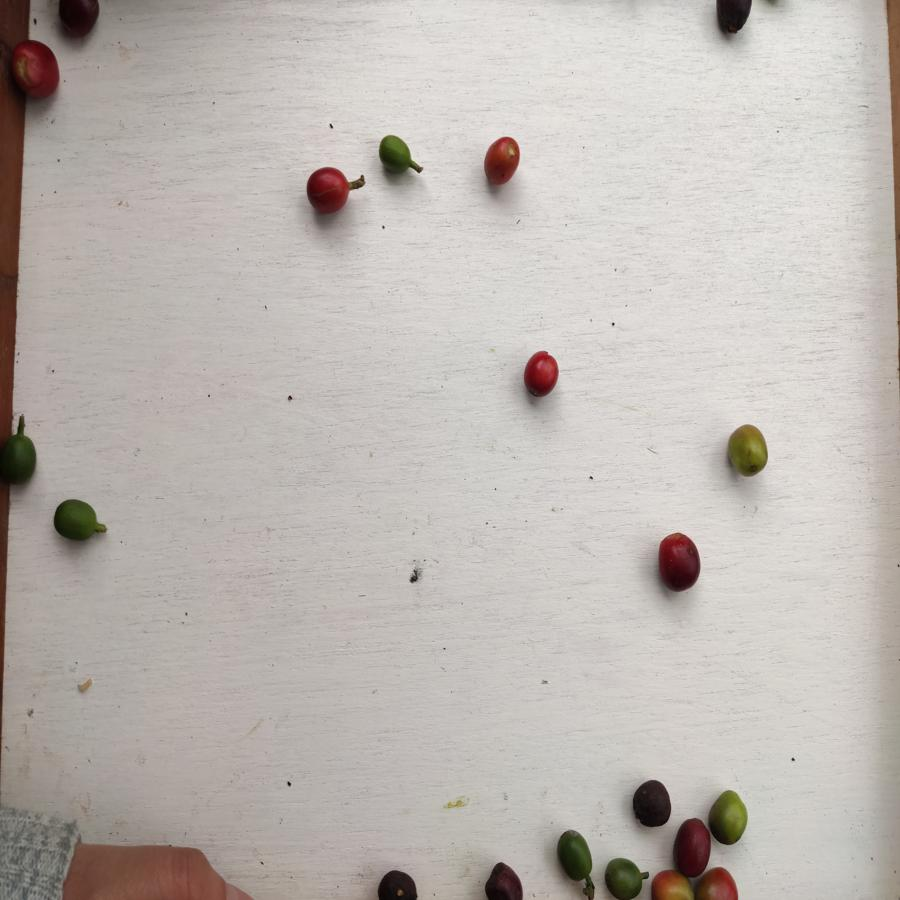Inmaduro: (554, 826, 596, 885), (709, 787, 747, 850), (599, 855, 651, 900), (53, 499, 102, 541), (3, 434, 40, 487), (376, 132, 415, 178)
Maduro: (15, 38, 63, 102), (482, 130, 527, 189), (306, 168, 351, 218), (522, 349, 564, 398), (698, 867, 741, 900)
Pinton: (722, 422, 778, 484), (651, 868, 692, 900)
Sobremaduro: (658, 531, 703, 595), (628, 778, 673, 833), (676, 818, 711, 878), (369, 868, 426, 900), (485, 857, 527, 900), (708, 1, 759, 36), (57, 1, 98, 38)
